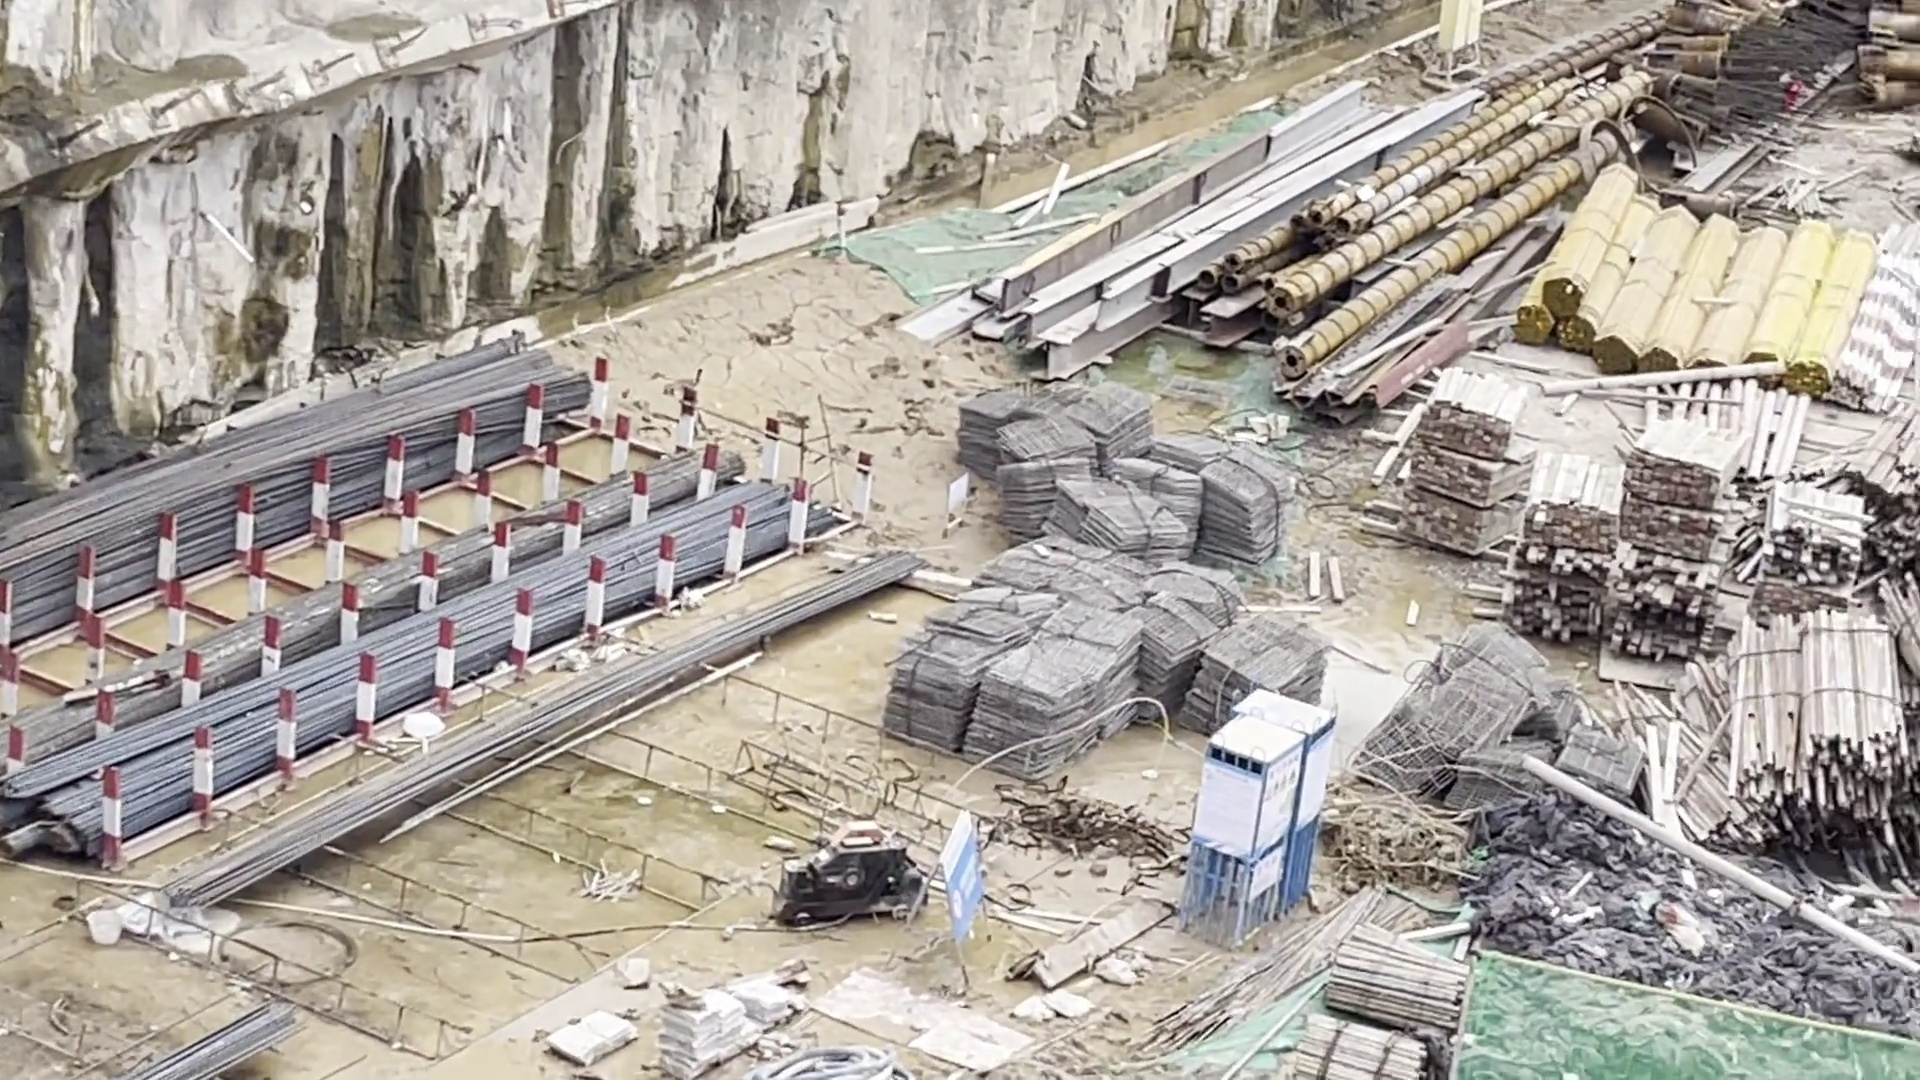rebar: (9, 328, 924, 926)
wood: (1404, 367, 1750, 665)
